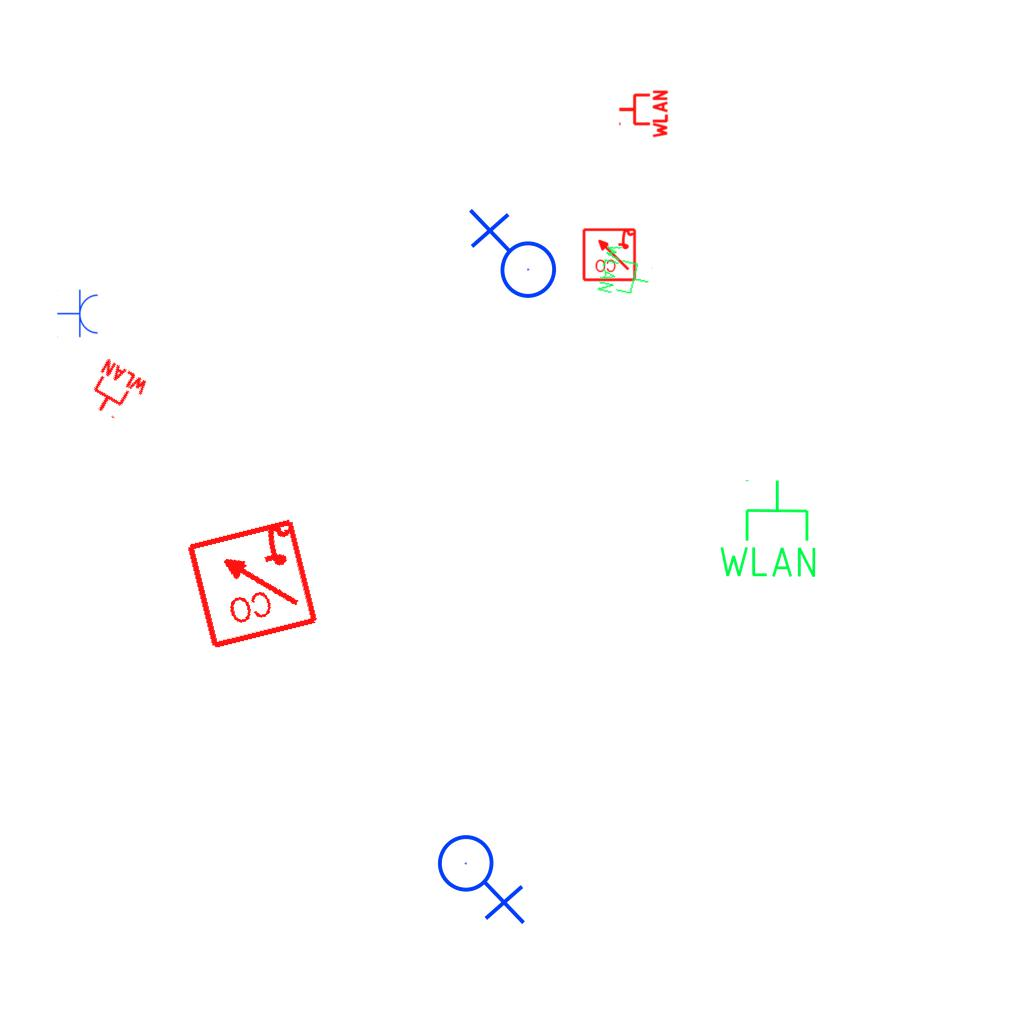Elektroanschluss_allgemein_230V_Geraeteanschlussdose_230V: (464, 208, 558, 307), (436, 826, 530, 925)
ROA_Rauchmelder_optisch_mit_Signalgeber_(Sockelsirene): (183, 514, 320, 651), (581, 226, 637, 282)
Schukosteckdose_einfach: (57, 289, 100, 339)
WLAN: (715, 477, 820, 581), (80, 356, 152, 428), (594, 240, 658, 304), (617, 88, 669, 140)
